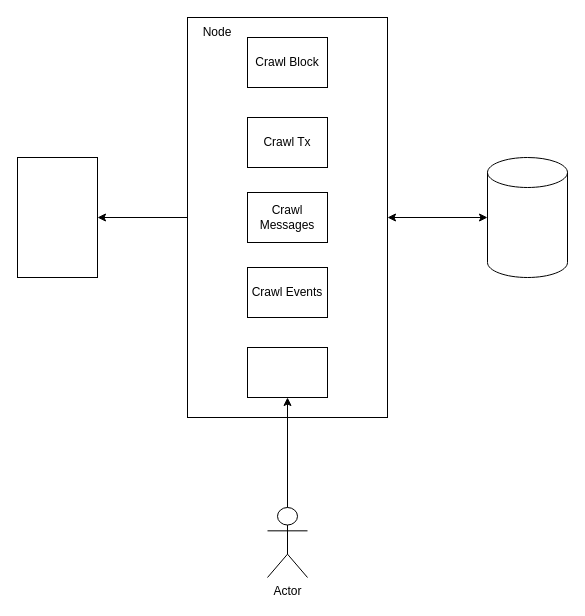
This 585x616 diagram has some shape labels left out. Here are the shapes that lost their labels. From the top down, the box of each, then its label:
(16, 156, 98, 278): Horoscope-v2
(486, 156, 568, 278): PostgreSQL
(246, 346, 328, 398): GraphQL
